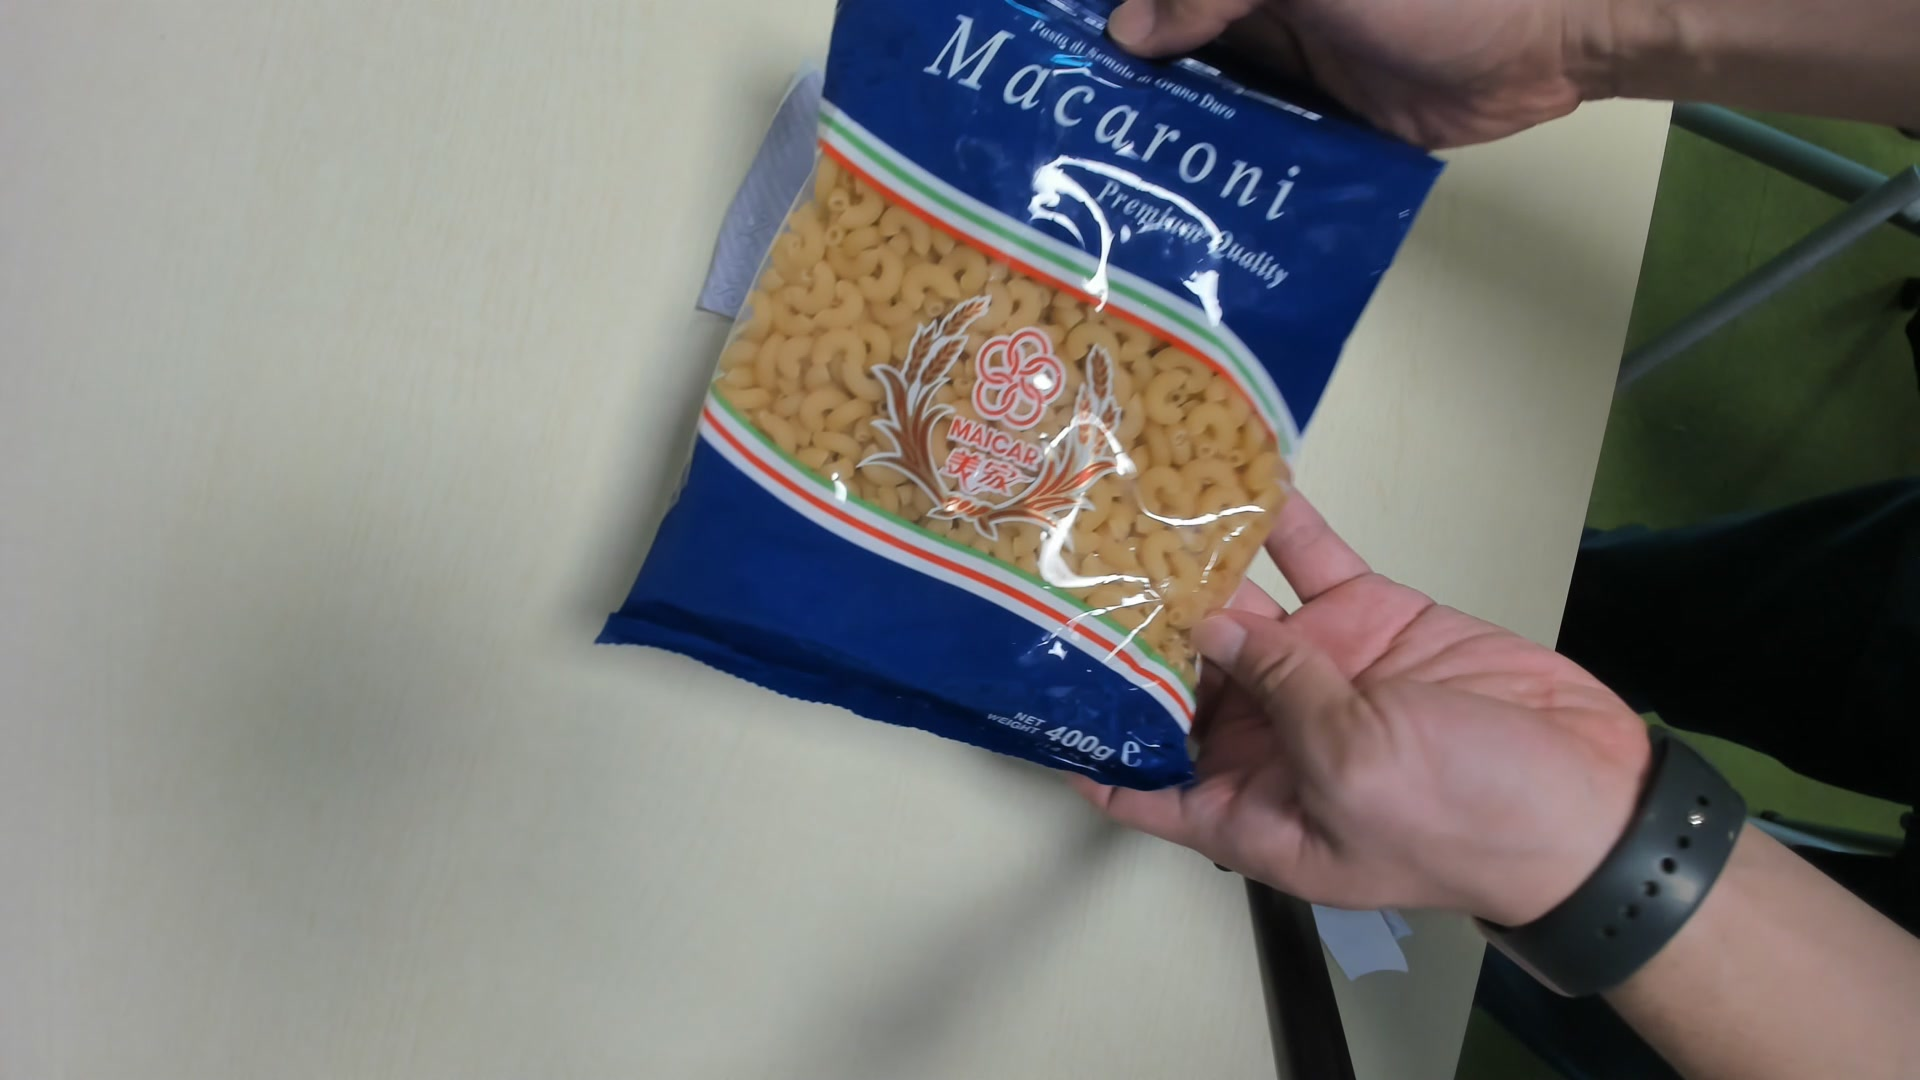Pasta_400-499g_Halal_NonHealthy: (604, 3, 1431, 793)
